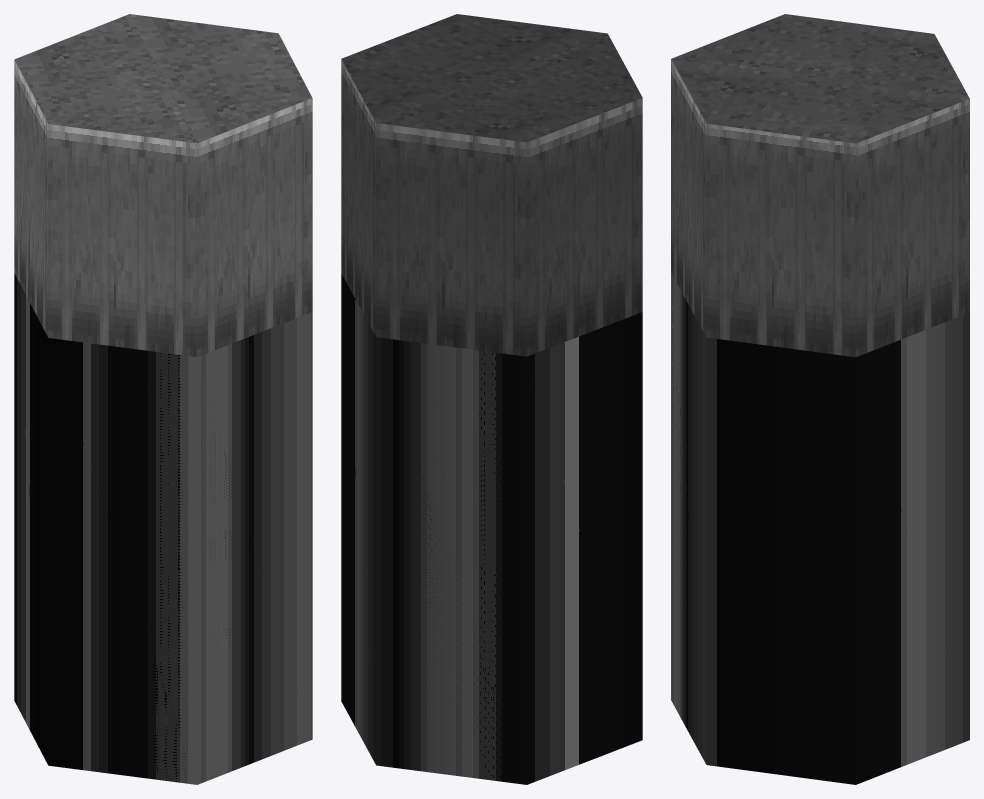
The model's file is Pglassware2Z.obj.
3 renders of one model, left to right at view 1: azimuth 30°, elevation 25°; view 2: azimuth 150°, elevation 25°; view 3: azimuth 270°, elevation 25°, orthographic.
Bounding box in the file's own units: 78 × 180 × 76.
3 materials, 3 textured.
